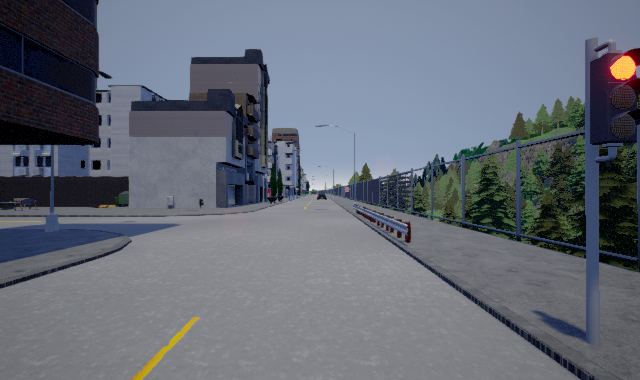traffic_light: (588, 48, 640, 144)
traffic_sign: (343, 185, 352, 194)
